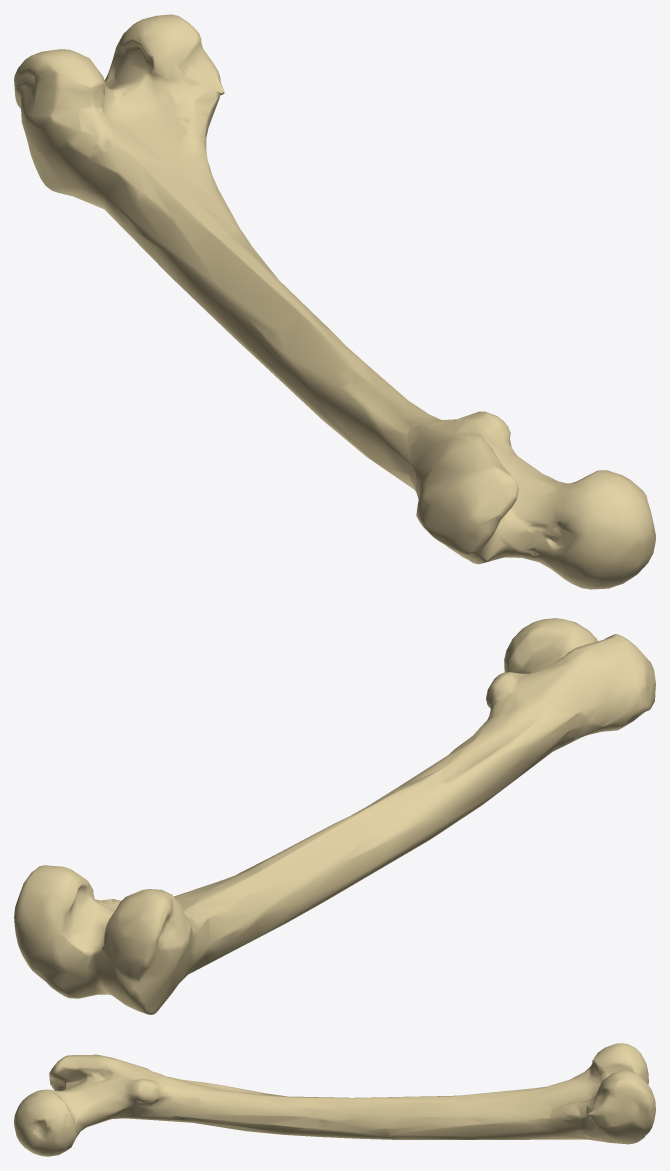
3 renders of one model, top to bottom at view 1: azimuth 30°, elevation 25°; view 2: azimuth 150°, elevation 25°; view 3: azimuth 270°, elevation 25°, orthographic. The views are drawn at different scales.
Visible parts, largest first — view 1: 右侧股骨; view 2: 右侧股骨; view 3: 右侧股骨.
Boxes of the visible parts, <box> form: 右侧股骨: <box>14,14,655,589</box>; 右侧股骨: <box>14,618,655,1014</box>; 右侧股骨: <box>14,1043,655,1156</box>.
Bounding box in the file's own units: 0.1718 × 0.1151 × 0.6696.
